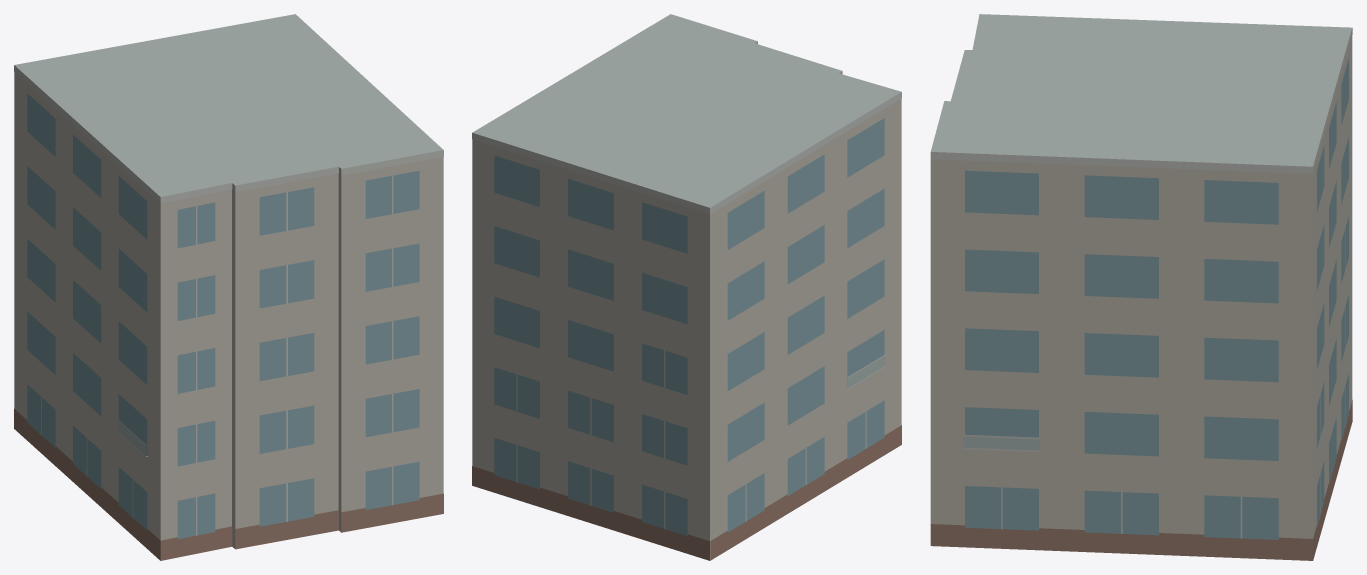
The model's file is survey-upis-32626954.glb.
3 renders of one model, left to right at view 1: azimuth 30°, elevation 25°; view 2: azimuth 150°, elevation 25°; view 3: azimuth 270°, elevation 25°, orthographic. The views are drawn at different scales.
Parts seen in each view (by area): view 1: survey-upis-32626954.tmp; view 2: survey-upis-32626954.tmp; view 3: survey-upis-32626954.tmp.
Boxes of the visible parts, x1,y1,x2,y2 form: survey-upis-32626954.tmp: [14, 14, 443, 560]; survey-upis-32626954.tmp: [472, 14, 901, 560]; survey-upis-32626954.tmp: [930, 14, 1352, 560].
Bounding box in the file's own units: 10.98 × 13.2 × 12.81.
